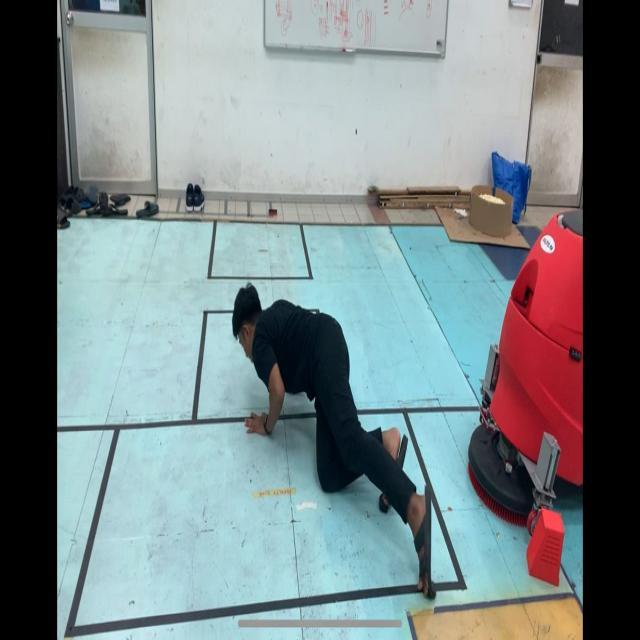fall: (225, 270, 439, 579)
